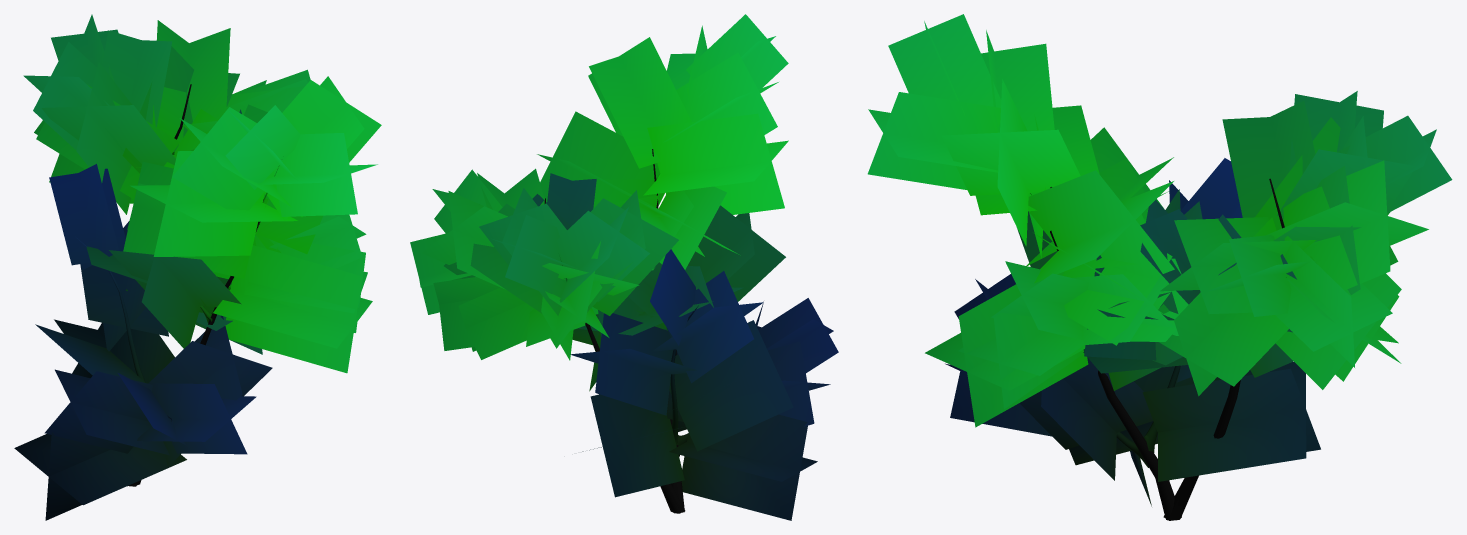
Rendered from Bush5.fbx.
3 renders of one model, left to right at view 1: azimuth 30°, elevation 25°; view 2: azimuth 150°, elevation 25°; view 3: azimuth 270°, elevation 25°, orthographic. The views are drawn at different scales.
Visible parts, largest first — view 1: Tree_1, Tree_0; view 2: Tree_1, Tree_0; view 3: Tree_1, Tree_0.
Part boxes in pixels (x1,y1,x2,y2): Tree_1: (14,14,381,520); Tree_0: (75,84,279,486); Tree_1: (410,14,838,520); Tree_0: (544,149,698,513); Tree_1: (867,14,1452,506); Tree_0: (1029,178,1286,520).
Bounding box in the file's own units: 245 × 304 × 312.
